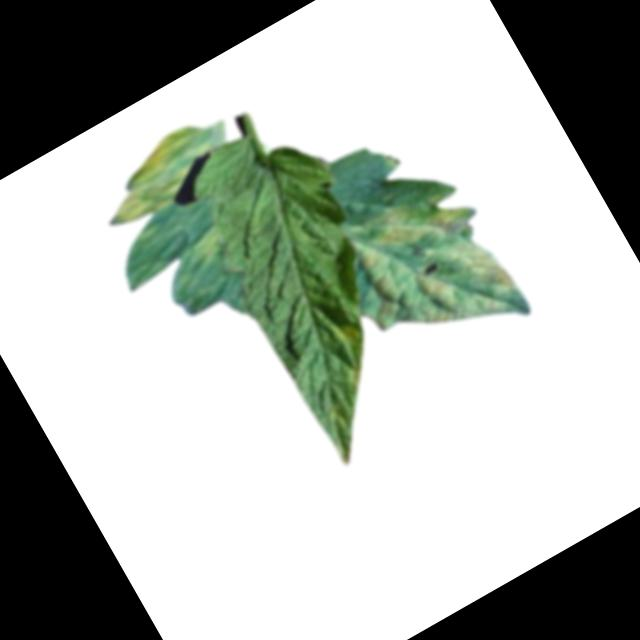Leaf_Mold: (324, 163, 529, 370), (86, 115, 228, 236), (188, 223, 232, 264), (328, 317, 369, 356)
